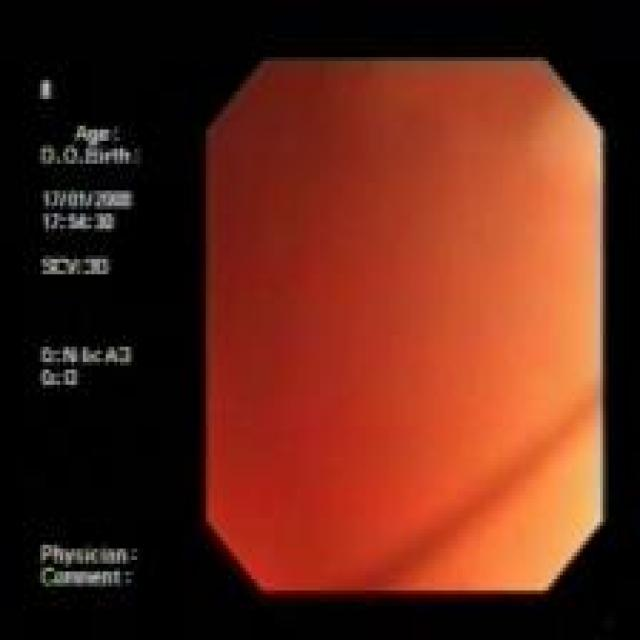color misalignment: (207, 60, 602, 590)
